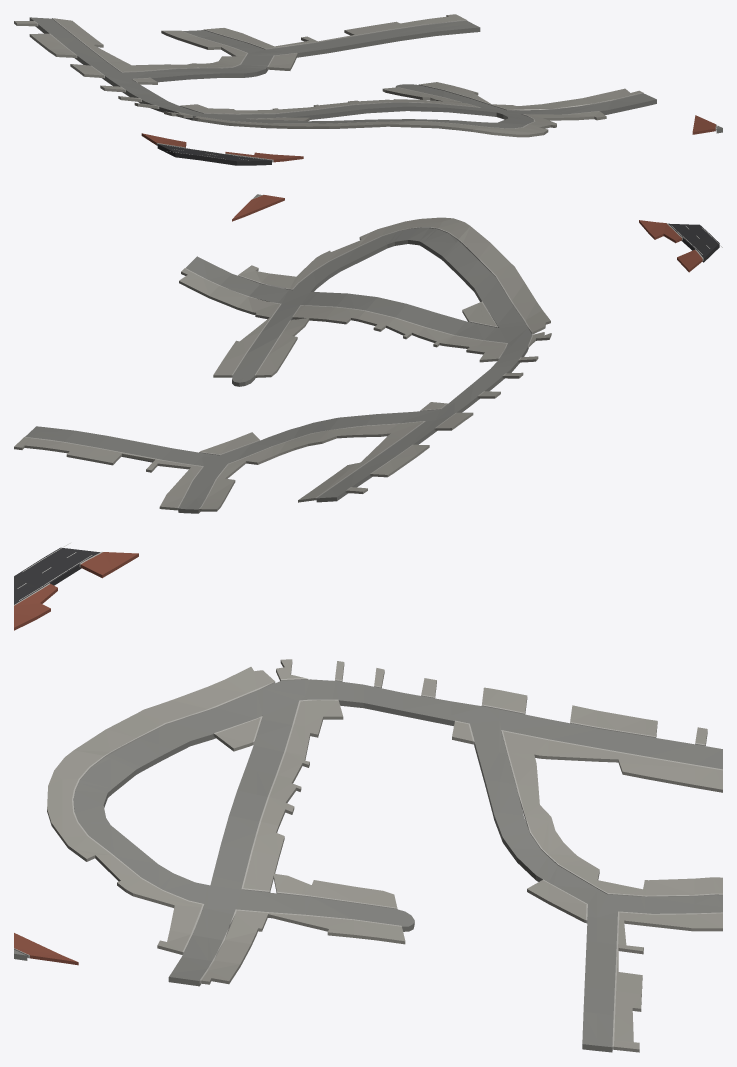
3 views of the same model, one above another, from view 1: azimuth 30°, elevation 25°; view 2: azimuth 150°, elevation 25°; view 3: azimuth 270°, elevation 25° (orthographic). The views are drawn at different scales.
Size of the model in its own units: 149 by 46.28 by 146.
